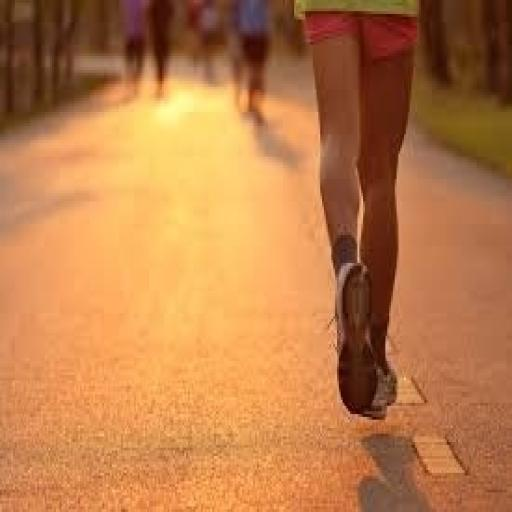running: (290, 0, 428, 422)
